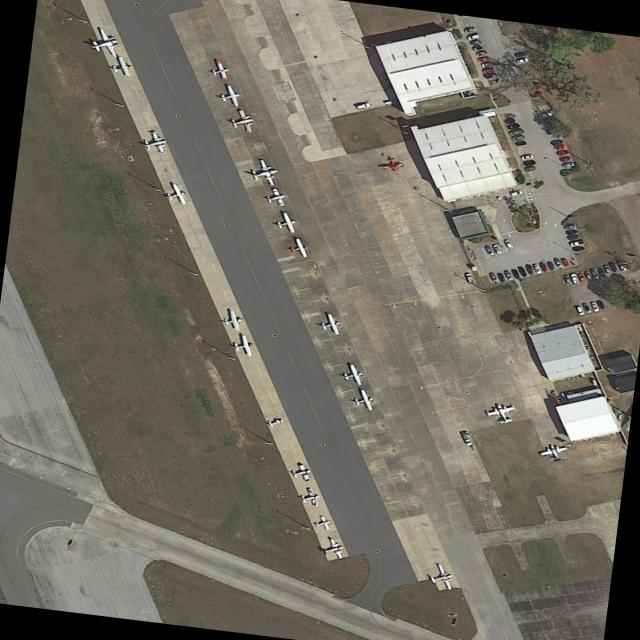large-vehicle: (460, 431, 473, 447)
plane: (83, 26, 123, 61), (246, 157, 282, 188), (425, 563, 457, 593), (484, 401, 520, 426), (226, 108, 258, 136), (138, 130, 171, 156), (537, 442, 572, 464), (229, 333, 257, 359), (214, 84, 243, 109), (348, 388, 377, 413), (319, 537, 347, 562), (338, 363, 366, 388), (315, 312, 343, 337), (160, 183, 189, 207), (271, 211, 300, 235), (207, 59, 232, 83), (107, 55, 132, 79), (219, 310, 245, 332), (286, 237, 310, 260), (262, 187, 288, 208), (298, 488, 323, 509), (378, 155, 405, 172), (289, 464, 313, 483), (312, 515, 333, 532)
small-vehicle: (508, 128, 525, 136), (354, 102, 371, 110), (538, 110, 553, 119), (569, 273, 580, 285), (569, 239, 585, 247), (510, 268, 521, 279), (496, 272, 507, 283), (616, 261, 627, 272), (466, 33, 481, 41), (462, 26, 477, 34), (492, 243, 502, 255), (465, 272, 475, 284), (520, 153, 534, 161), (513, 139, 527, 147), (608, 262, 618, 273), (582, 303, 592, 314), (590, 301, 600, 312), (517, 266, 527, 277), (553, 258, 563, 269), (506, 122, 521, 129), (511, 134, 524, 142), (554, 143, 567, 151), (571, 244, 584, 252), (484, 71, 497, 79), (477, 55, 490, 63), (484, 245, 494, 255), (504, 239, 514, 249), (504, 271, 514, 281), (532, 264, 542, 274), (539, 262, 549, 272), (589, 269, 599, 279), (596, 268, 606, 278), (489, 272, 498, 283), (576, 305, 585, 316), (525, 264, 534, 275), (577, 272, 586, 283), (559, 155, 573, 162), (549, 139, 563, 146), (510, 189, 522, 197), (528, 91, 544, 97), (481, 66, 493, 74), (516, 57, 529, 64), (556, 149, 569, 156), (562, 161, 575, 168), (567, 234, 580, 241), (565, 228, 578, 235), (523, 165, 536, 172), (514, 51, 527, 58), (596, 300, 606, 309), (547, 261, 556, 271), (563, 274, 572, 284), (583, 270, 592, 280), (480, 61, 492, 68), (563, 223, 575, 230), (523, 159, 535, 166), (504, 117, 516, 124), (561, 258, 570, 267), (603, 265, 612, 274), (475, 50, 487, 56), (470, 40, 482, 45)
